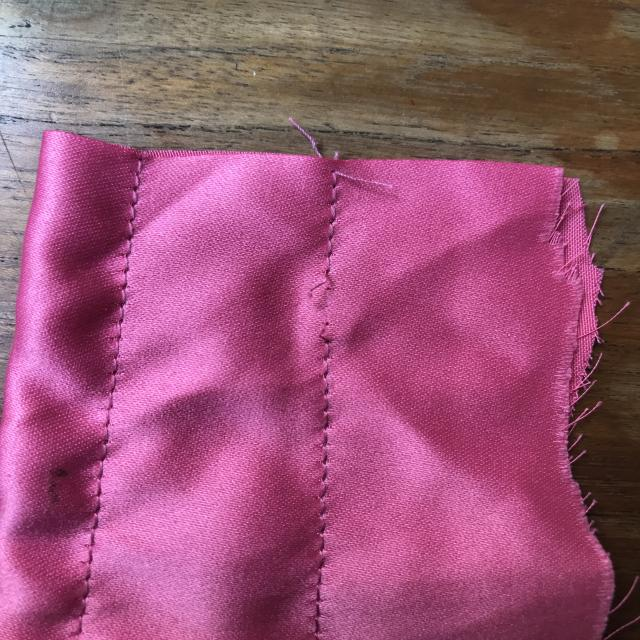broken: (286, 265, 357, 358)
